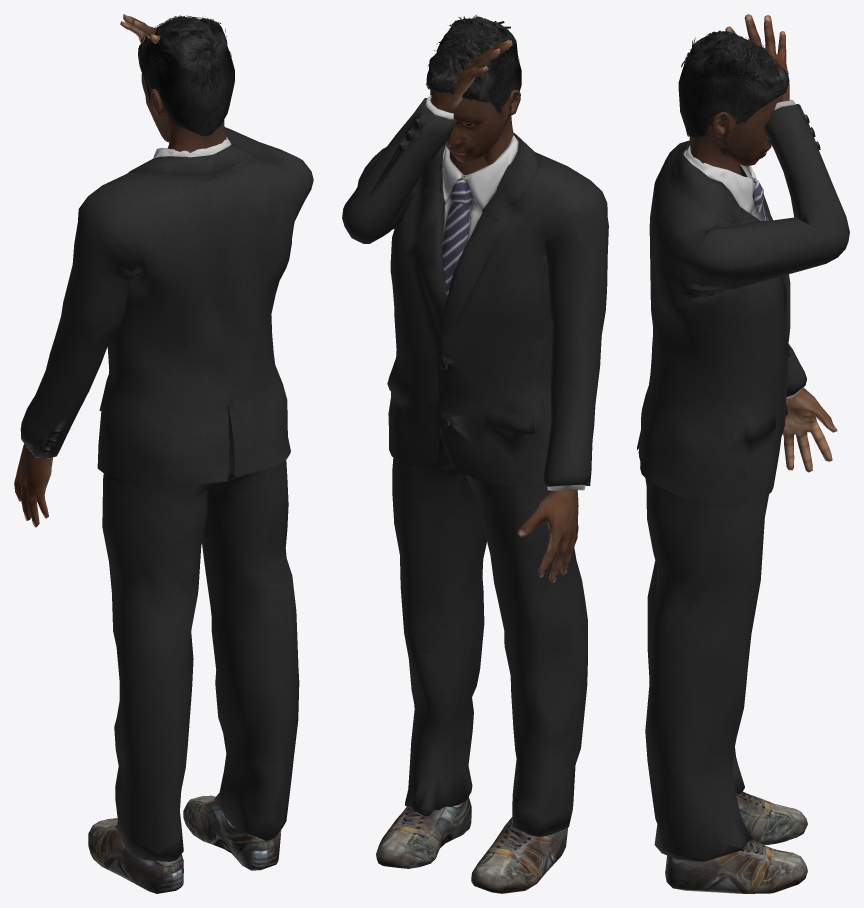
Rendered from facepalm_2.gltf.
3 renders of one model, left to right at view 1: azimuth 30°, elevation 25°; view 2: azimuth 150°, elevation 25°; view 3: azimuth 270°, elevation 25°, orthographic.
Visible parts, largest first — view 1: facepalm; view 2: facepalm; view 3: facepalm.
Part boxes in pixels (x1,y1,x2,y2): facepalm: [14, 14, 313, 893]; facepalm: [342, 15, 608, 893]; facepalm: [637, 14, 849, 893].
Bounding box in the file's own units: 0.5362 × 1.72 × 0.3997.
6 materials, 6 textured.
